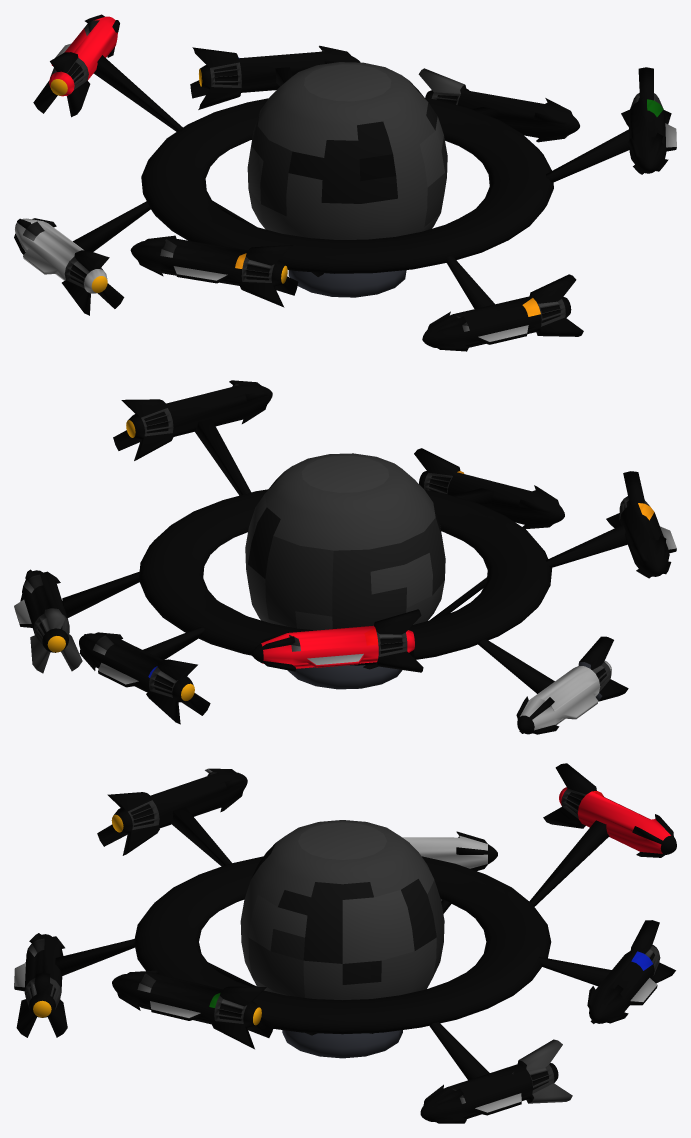
The model's file is BrinquedoFoguete.fbx.
3 views of the same model, one above another, from view 1: azimuth 30°, elevation 25°; view 2: azimuth 150°, elevation 25°; view 3: azimuth 270°, elevation 25° (orthographic).
Visible parts, largest first — view 1: Brinquedo_FogueteLOD0, Brinquedo_FogueteLaranja, Brinquedo_FogueteAmarelo, Brinquedo_FogueteCinza, Brinquedo_FogueteLAzul, Brinquedo_FogueteLRoxo, Brinquedo_FogueteLVermelho, Brinquedo_FogueteLVerde; view 2: Brinquedo_FogueteLOD0, Brinquedo_FogueteLVermelho, Brinquedo_FogueteLVerde, Brinquedo_FogueteLAzul, Brinquedo_FogueteCinza, Brinquedo_FogueteAmarelo, Brinquedo_FogueteLRoxo, Brinquedo_FogueteLaranja; view 3: Brinquedo_FogueteLOD0, Brinquedo_FogueteLVerde, Brinquedo_FogueteLRoxo, Brinquedo_FogueteLaranja, Brinquedo_FogueteLVermelho, Brinquedo_FogueteLAzul, Brinquedo_FogueteAmarelo, Brinquedo_FogueteCinza.
Part boxes in pixels (bbox=[...]): Brinquedo_FogueteLOD0: bbox=[73, 55, 629, 308]; Brinquedo_FogueteLaranja: bbox=[130, 235, 298, 307]; Brinquedo_FogueteAmarelo: bbox=[422, 274, 583, 351]; Brinquedo_FogueteCinza: bbox=[14, 218, 124, 315]; Brinquedo_FogueteLAzul: bbox=[190, 45, 360, 109]; Brinquedo_FogueteLRoxo: bbox=[418, 68, 579, 142]; Brinquedo_FogueteLVermelho: bbox=[33, 14, 119, 117]; Brinquedo_FogueteLVerde: bbox=[621, 67, 676, 174]; Brinquedo_FogueteLOD0: bbox=[62, 419, 627, 693]; Brinquedo_FogueteLVermelho: bbox=[251, 609, 423, 672]; Brinquedo_FogueteLVerde: bbox=[113, 380, 272, 460]; Brinquedo_FogueteLAzul: bbox=[79, 632, 210, 724]; Brinquedo_FogueteCinza: bbox=[516, 636, 628, 734]; Brinquedo_FogueteAmarelo: bbox=[414, 448, 564, 529]; Brinquedo_FogueteLRoxo: bbox=[14, 569, 82, 673]; Brinquedo_FogueteLaranja: bbox=[606, 471, 676, 578]; Brinquedo_FogueteLOD0: bbox=[55, 807, 611, 1080]; Brinquedo_FogueteLVerde: bbox=[112, 970, 274, 1049]; Brinquedo_FogueteLRoxo: bbox=[420, 1039, 572, 1123]; Brinquedo_FogueteLaranja: bbox=[97, 768, 247, 855]; Brinquedo_FogueteLVermelho: bbox=[543, 763, 676, 857]; Brinquedo_FogueteLAzul: bbox=[587, 920, 675, 1023]; Brinquedo_FogueteAmarelo: bbox=[14, 933, 67, 1037]; Brinquedo_FogueteCinza: bbox=[402, 831, 497, 870].
Size of the model in its own units: 2900 by 952 by 2963.
